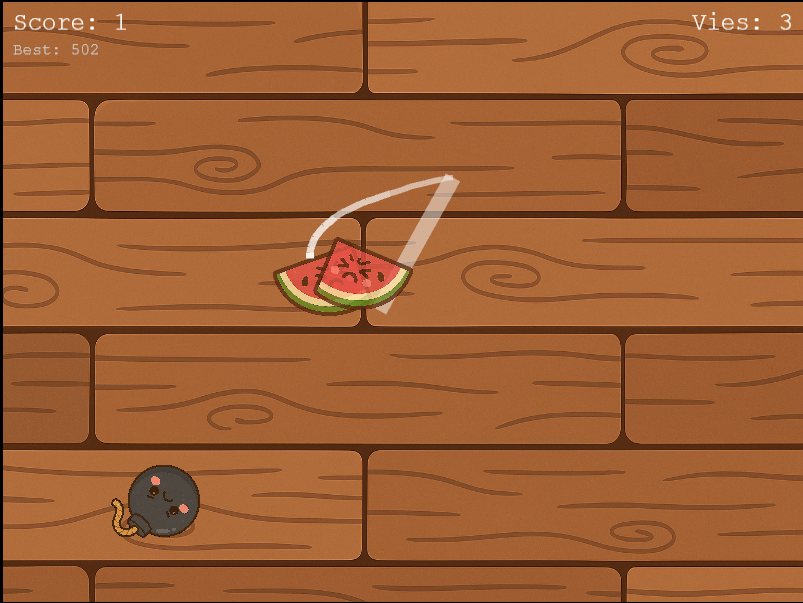bomb: (106, 455, 201, 543)
